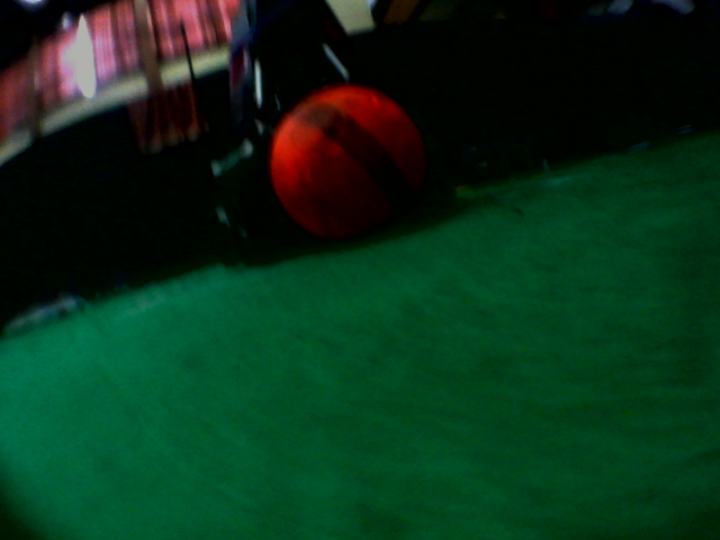bola: (256, 76, 433, 249)
